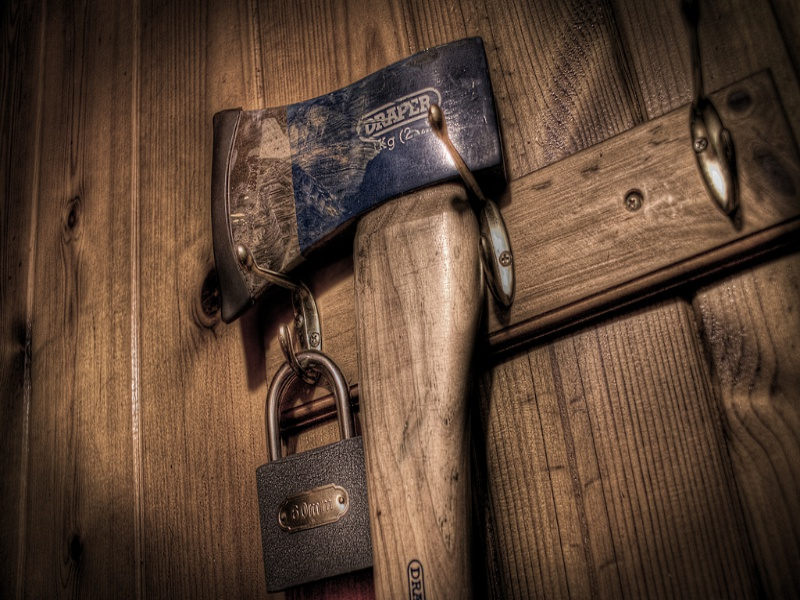axe: (198, 34, 522, 363)
